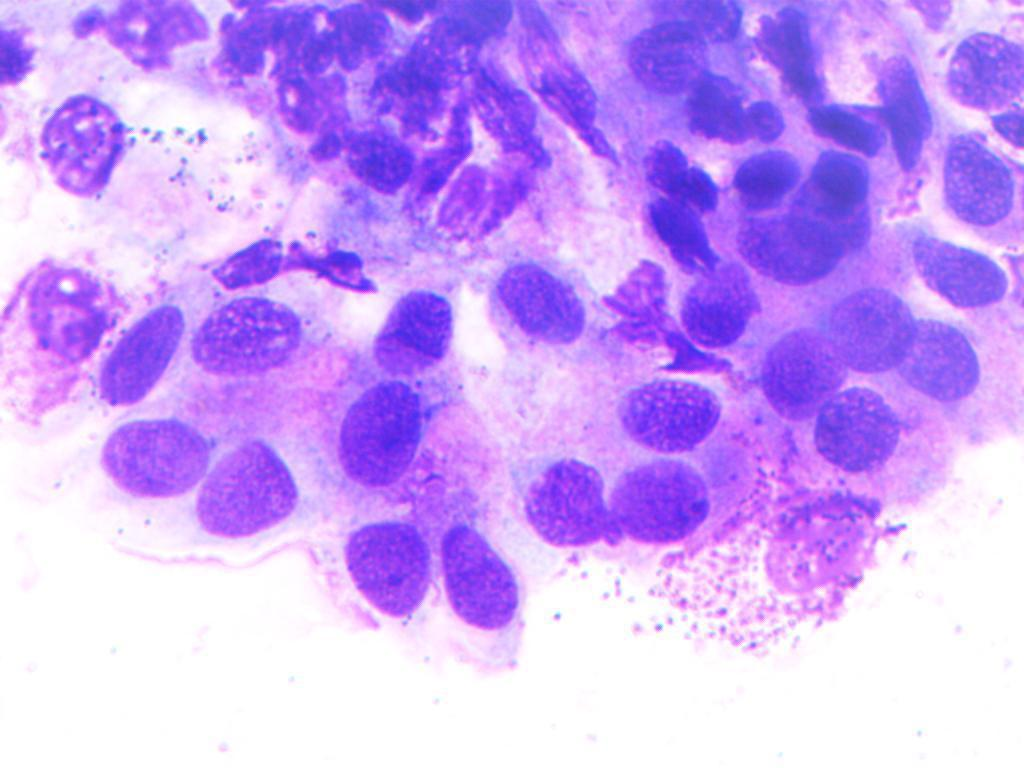artifact: (67, 1, 222, 77), (435, 142, 539, 253), (260, 61, 358, 145), (292, 227, 391, 298)
epithelial: (477, 246, 610, 386), (595, 447, 739, 553), (881, 214, 1015, 315), (48, 411, 203, 498), (187, 290, 333, 381), (676, 242, 773, 357), (339, 377, 431, 498), (196, 435, 298, 540), (522, 440, 612, 558), (753, 322, 857, 423), (90, 292, 181, 407), (887, 311, 995, 405), (602, 11, 713, 101), (736, 201, 845, 292), (933, 18, 1024, 126), (339, 508, 428, 617), (363, 284, 465, 379), (435, 520, 521, 632), (628, 128, 730, 220), (932, 128, 1017, 235), (860, 49, 935, 167), (601, 381, 726, 449), (640, 186, 729, 278), (825, 289, 917, 377), (672, 78, 789, 147), (740, 8, 835, 92), (321, 126, 427, 200), (708, 143, 811, 214), (193, 225, 299, 293), (815, 386, 901, 469), (796, 94, 904, 152), (800, 148, 883, 211)
mast_cell: (653, 452, 906, 660), (32, 95, 219, 203), (0, 259, 117, 411)
